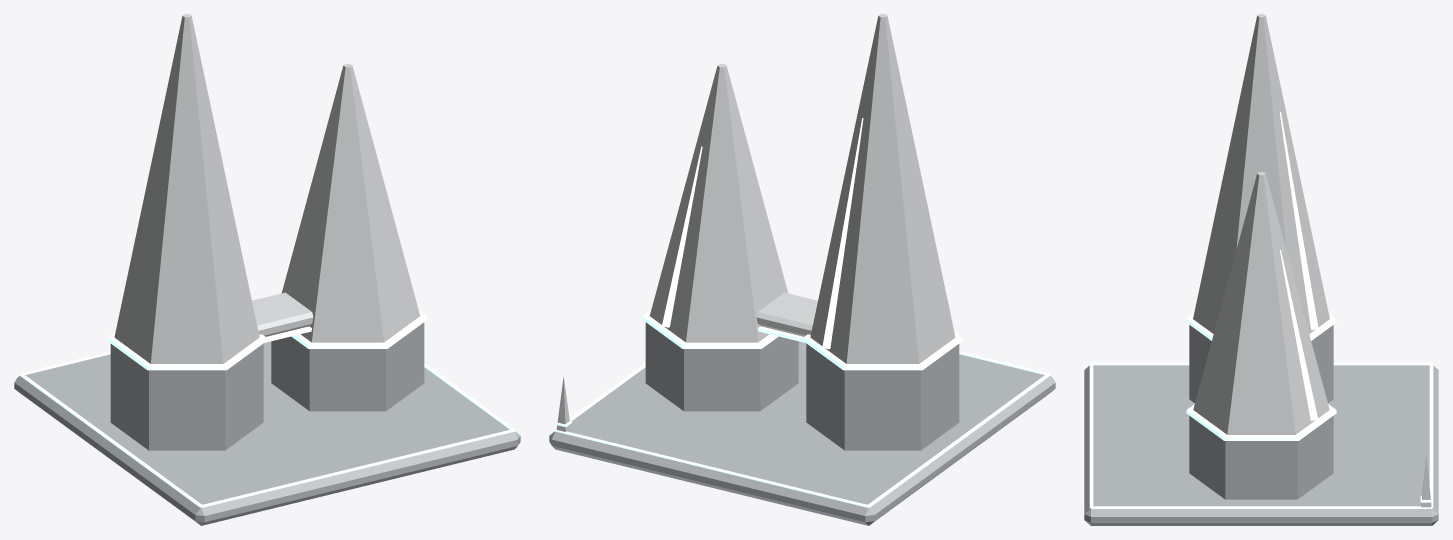
Rendered from zone_high_3_t1.glb.
The picture shows the model from 3 angles, left to right: view 1: azimuth 30°, elevation 25°; view 2: azimuth 150°, elevation 25°; view 3: azimuth 270°, elevation 25°; orthographic projection. The views are drawn at different scales.
Visible parts, largest first — view 1: zone_high_3_t1, detail; view 2: zone_high_3_t1, detail; view 3: zone_high_3_t1, detail.
Boxes of the visible parts, bbox=[...] form: zone_high_3_t1: bbox=[14, 14, 520, 525]; detail: bbox=[19, 351, 515, 507]; zone_high_3_t1: bbox=[549, 14, 1055, 525]; detail: bbox=[554, 351, 1050, 507]; zone_high_3_t1: bbox=[1084, 14, 1438, 525]; detail: bbox=[1089, 362, 1433, 508].
Size of the model in its own units: 27.5 by 34.38 by 27.5.
